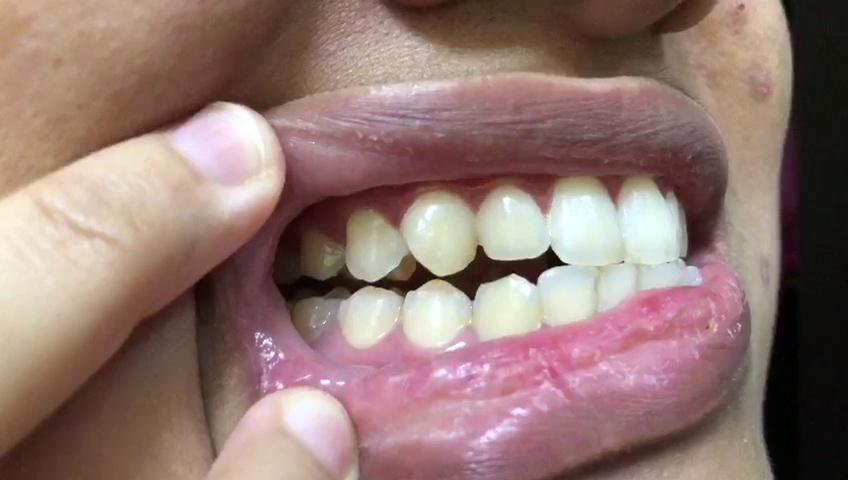1st Molar: (292, 295, 339, 341)
1st Premolar: (344, 205, 409, 284), (404, 279, 471, 349)
2nd Premolar: (339, 286, 401, 350), (300, 228, 344, 283)
Canine: (399, 188, 476, 276), (471, 272, 540, 341)
Central Incisor: (546, 175, 626, 266), (615, 173, 681, 264)
Lateral Incisor: (476, 184, 550, 260), (538, 262, 599, 332)
